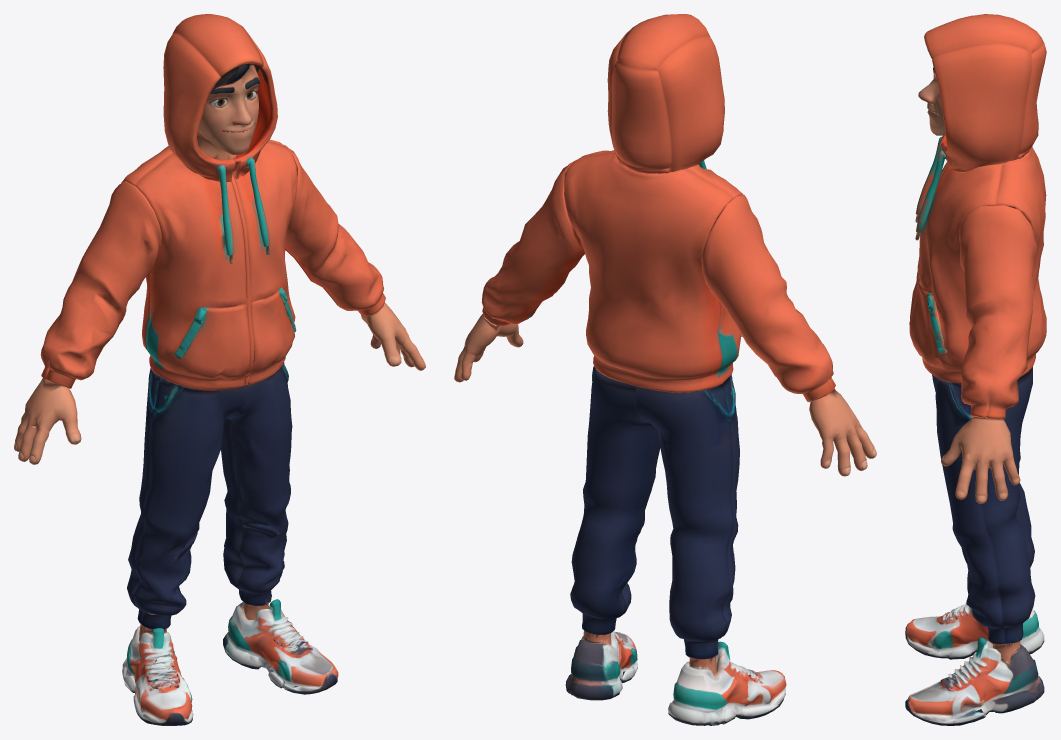
The model's file is character_runner.glb.
3 renders of one model, left to right at view 1: azimuth 30°, elevation 25°; view 2: azimuth 150°, elevation 25°; view 3: azimuth 270°, elevation 25°, orthographic. The views are drawn at different scales.
Visible parts, largest first — view 1: tripo_part_0, tripo_part_2, tripo_part_3, tripo_part_4, tripo_part_1, tripo_part_5, tripo_part_6, tripo_part_7, tripo_part_8, tripo_part_9, tripo_part_13, tripo_part_12 (+2 smaller); view 2: tripo_part_0, tripo_part_2, tripo_part_1, tripo_part_3, tripo_part_4, tripo_part_5, tripo_part_7, tripo_part_6, tripo_part_9, tripo_part_13; view 3: tripo_part_1, tripo_part_0, tripo_part_5, tripo_part_3, tripo_part_6, tripo_part_7, tripo_part_13, tripo_part_8, tripo_part_11, tripo_part_14, tripo_part_2, tripo_part_16 (+6 smaller).
Part boxes in pixels (x1,y1,x2,y2): tripo_part_0: (121,139,297,390); tripo_part_2: (127,344,244,616); tripo_part_3: (221,351,292,606); tripo_part_4: (40,181,162,388); tripo_part_1: (163,14,277,182); tripo_part_5: (283,144,385,315); tripo_part_6: (223,599,338,688); tripo_part_7: (122,626,193,725); tripo_part_8: (197,64,260,159); tripo_part_9: (21,378,81,444); tripo_part_13: (361,302,408,366); tripo_part_12: (231,157,253,385); tripo_part_0: (564,150,743,392); tripo_part_2: (635,375,739,641); tripo_part_1: (607,14,724,173); tripo_part_3: (570,366,660,634); tripo_part_4: (702,195,835,402); tripo_part_5: (481,162,584,325); tripo_part_7: (668,641,786,725); tripo_part_6: (565,630,637,700); tripo_part_9: (809,389,859,468); tripo_part_13: (464,314,523,355); tripo_part_1: (924,14,1046,171); tripo_part_0: (909,147,1046,383); tripo_part_5: (959,205,1037,418); tripo_part_3: (932,367,1035,644); tripo_part_6: (908,637,1044,717); tripo_part_7: (905,608,1044,659); tripo_part_13: (941,416,1013,467); tripo_part_8: (918,65,945,135); tripo_part_11: (989,458,1020,500); tripo_part_14: (905,699,986,725); tripo_part_2: (932,341,1034,567); tripo_part_16: (915,149,946,240).
Size of the model in its own units: 0.611 by 0.9791 by 0.1891.
Materials: 1 (1 with a texture image).
